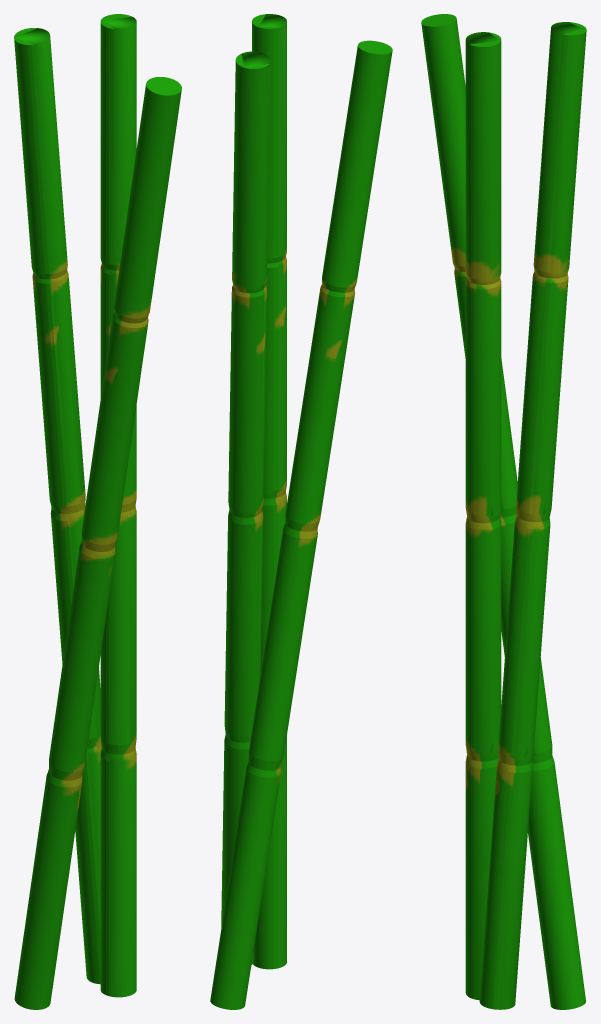
The model's file is Bamboo.fbx.
3 renders of one model, left to right at view 1: azimuth 90°, elevation 25°; view 2: azimuth 150°, elevation 25°; view 3: azimuth 270°, elevation 25°, orthographic. The views are drawn at different scales.
Visible parts, largest first — view 1: Cylinder.002; view 2: Cylinder.002; view 3: Cylinder.002.
Part boxes in pixels (x1=…): Cylinder.002: x1=14, y1=14, x2=181, y2=1009; Cylinder.002: x1=210, y1=14, x2=392, y2=1009; Cylinder.002: x1=421, y1=14, x2=586, y2=1009.
Bounding box in the file's own units: 1.78 × 11.69 × 1.81.
